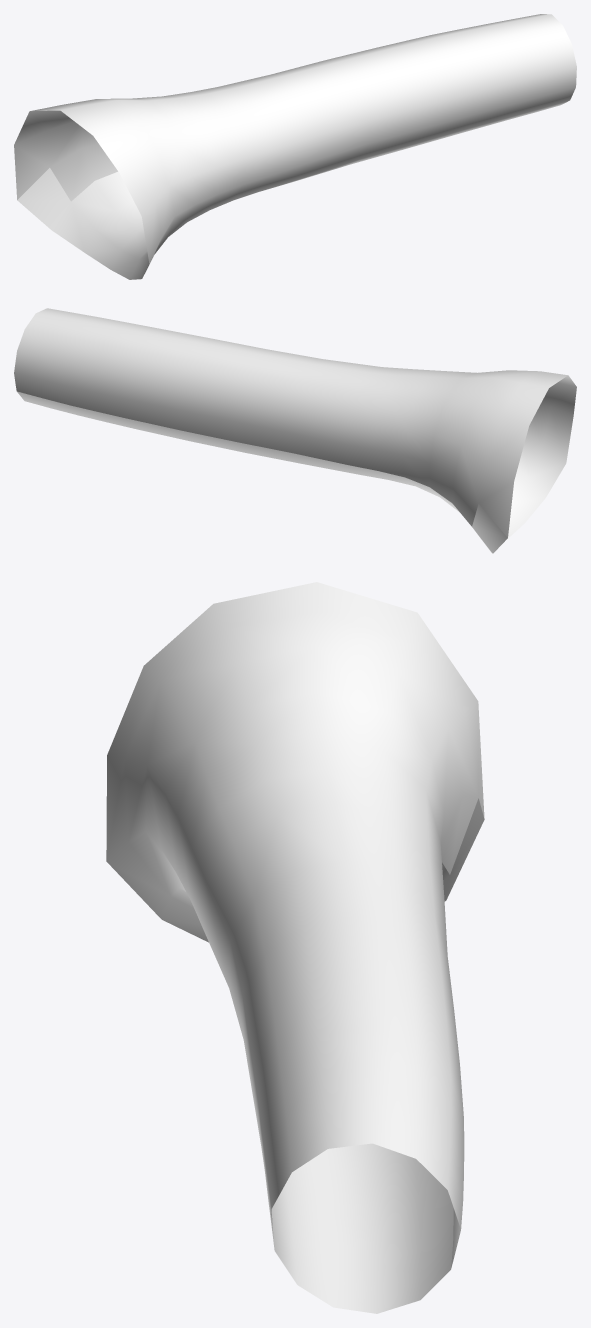
The model's file is BrazoIzq.obj.
3 views of the same model, one above another, from view 1: azimuth 30°, elevation 25°; view 2: azimuth 150°, elevation 25°; view 3: azimuth 270°, elevation 25° (orthographic). The views are drawn at different scales.
Parts seen in each view (by area): view 1: BrazoIzq_Mesh_Body_0.002; view 2: BrazoIzq_Mesh_Body_0.002; view 3: BrazoIzq_Mesh_Body_0.002.
Boxes of the visible parts, <box> form: BrazoIzq_Mesh_Body_0.002: <box>14,14,576,279</box>; BrazoIzq_Mesh_Body_0.002: <box>14,308,576,553</box>; BrazoIzq_Mesh_Body_0.002: <box>106,582,484,1313</box>.
Bounding box in the file's own units: 0.3994 × 0.1259 × 0.1295.
1 material, 1 textured.
